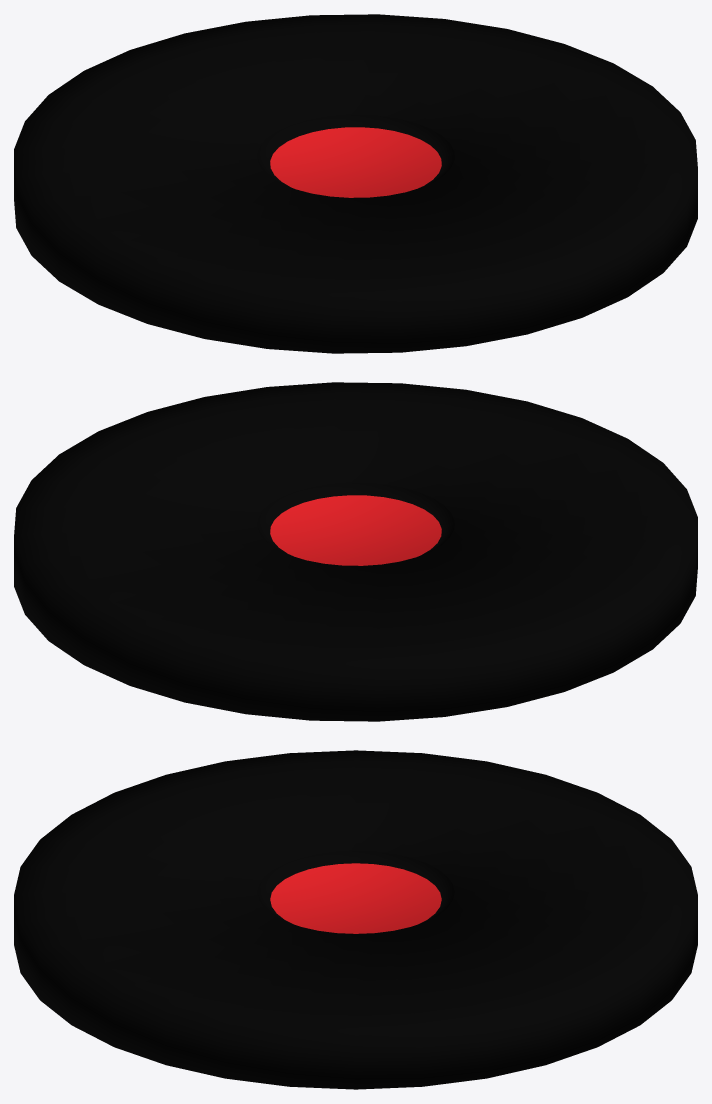
File: Komforka.fbx
The picture shows the model from 3 angles, top to bottom: view 1: azimuth 30°, elevation 25°; view 2: azimuth 150°, elevation 25°; view 3: azimuth 270°, elevation 25°; orthographic projection.
Parts seen in each view (by area): view 1: Цилиндр.003; view 2: Цилиндр.003; view 3: Цилиндр.003.
Boxes of the visible parts, <box> form: Цилиндр.003: <box>14,14,697,353</box>; Цилиндр.003: <box>14,382,697,721</box>; Цилиндр.003: <box>14,750,697,1089</box>.
Bounding box in the file's own units: 1.54 × 0.1314 × 1.54.
